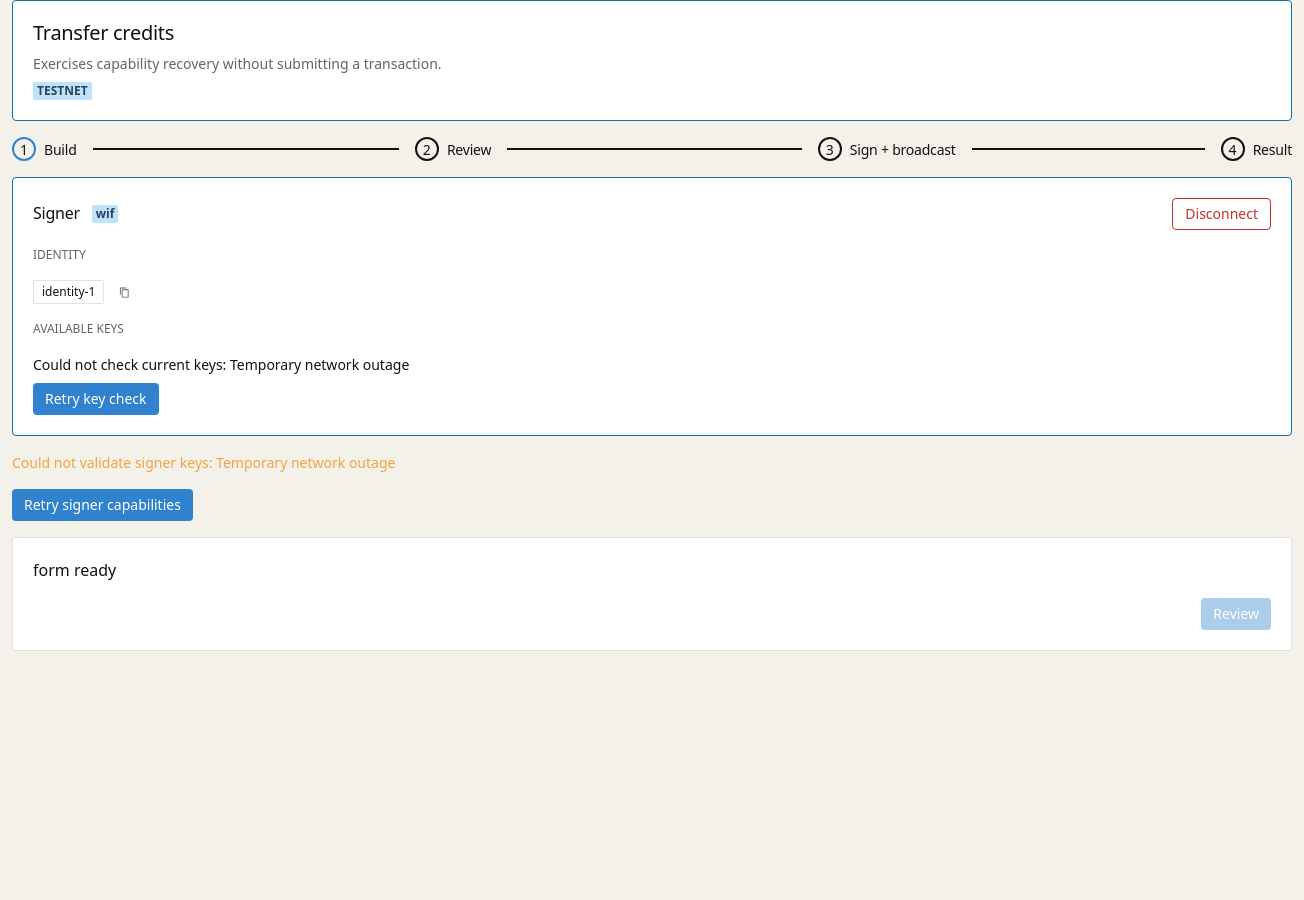
Test: signer capability recovery › recovers the shell and signer card together after the visible key-check retry
Expected: the text "Could not validate signer keys: Temporary network outage" is shown, [12,453,395,472]
Expected: the button "Review" is disabled, [1201,598,1271,630]
Click the button "Retry key check" at [96, 399], box [33,383,159,415]
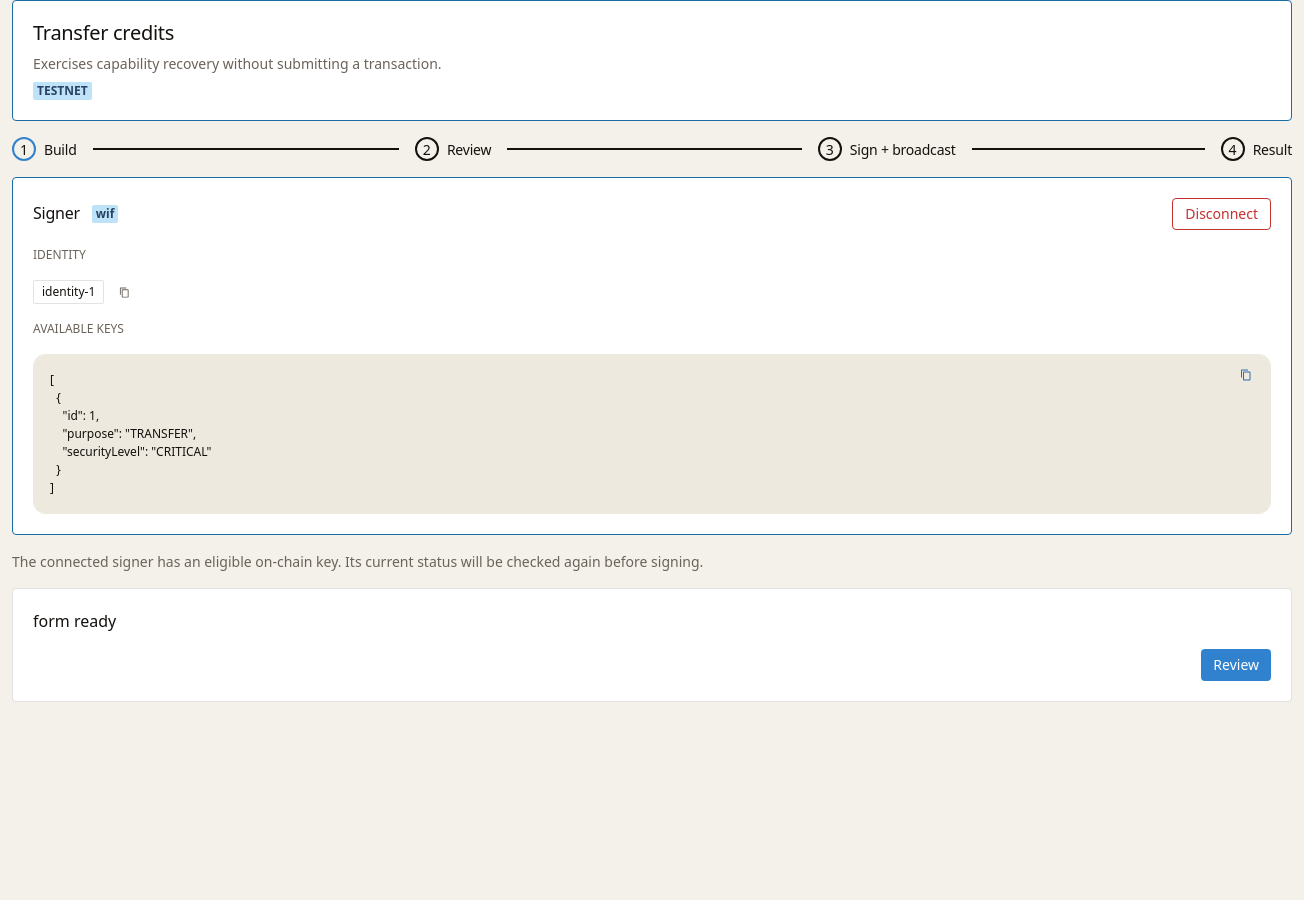
Expected: the button "Review" is enabled, [1201,649,1271,681]
Expected: the text "Could not validate signer keys:" is gone
Expected: the button "Retry key check" is gone
